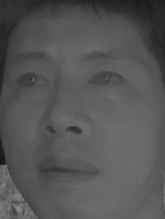eye: (86, 65, 126, 90), (12, 68, 52, 91)
mouth: (36, 149, 100, 190)
